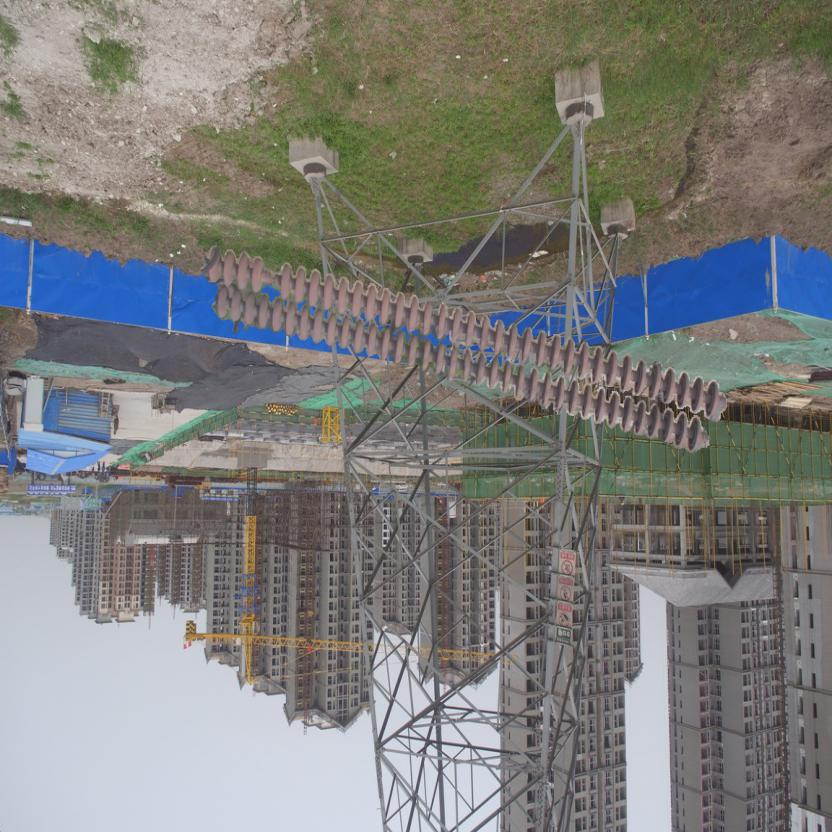defect: (250, 254, 295, 303)
